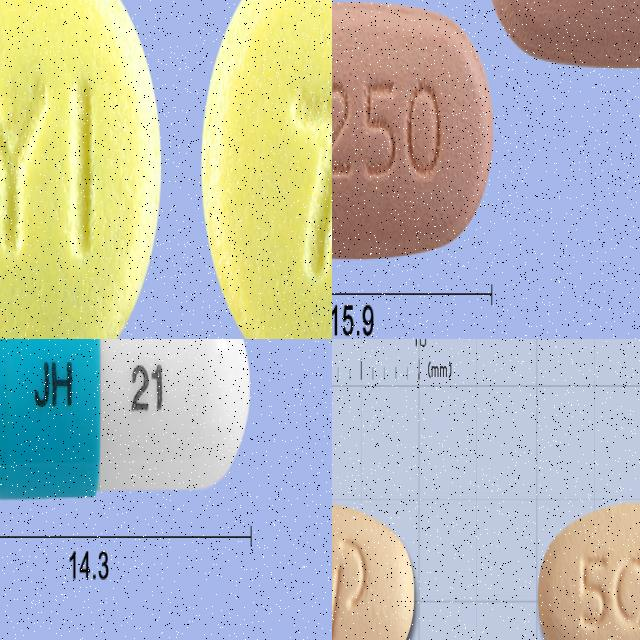Flunazole Cap: (0, 339, 252, 496)
Highloxin: (537, 499, 640, 640), (332, 501, 416, 640)
Levoby - 500mg: (332, 0, 493, 257)
Levopa: (0, 0, 160, 339), (201, 0, 332, 339)
